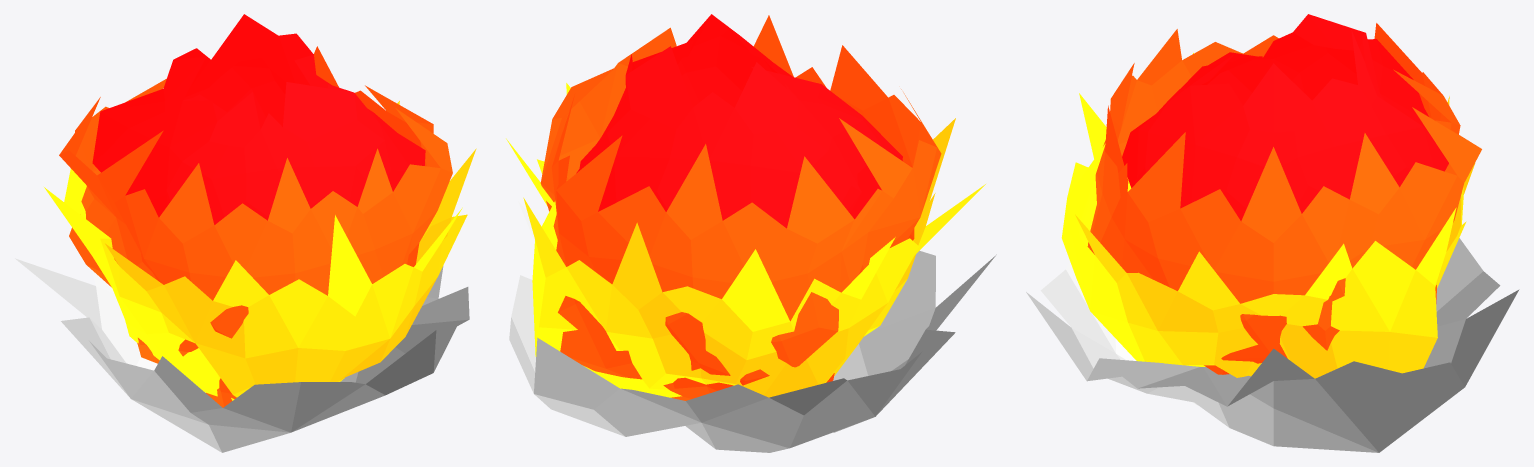
The model's file is Flame.fbx.
The picture shows the model from 3 angles, left to right: view 1: azimuth 30°, elevation 25°; view 2: azimuth 150°, elevation 25°; view 3: azimuth 270°, elevation 25°; orthographic projection. The views are drawn at different scales.
Parts seen in each view (by area): view 1: Icosphere.005; view 2: Icosphere.005; view 3: Icosphere.005.
Boxes of the visible parts, x1=… form: Icosphere.005: x1=15, y1=14, x2=476, y2=452; Icosphere.005: x1=506, y1=14, x2=996, y2=452; Icosphere.005: x1=1026, y1=14, x2=1519, y2=452.
Size of the model in its own units: 49.32 by 45.66 by 50.01.
